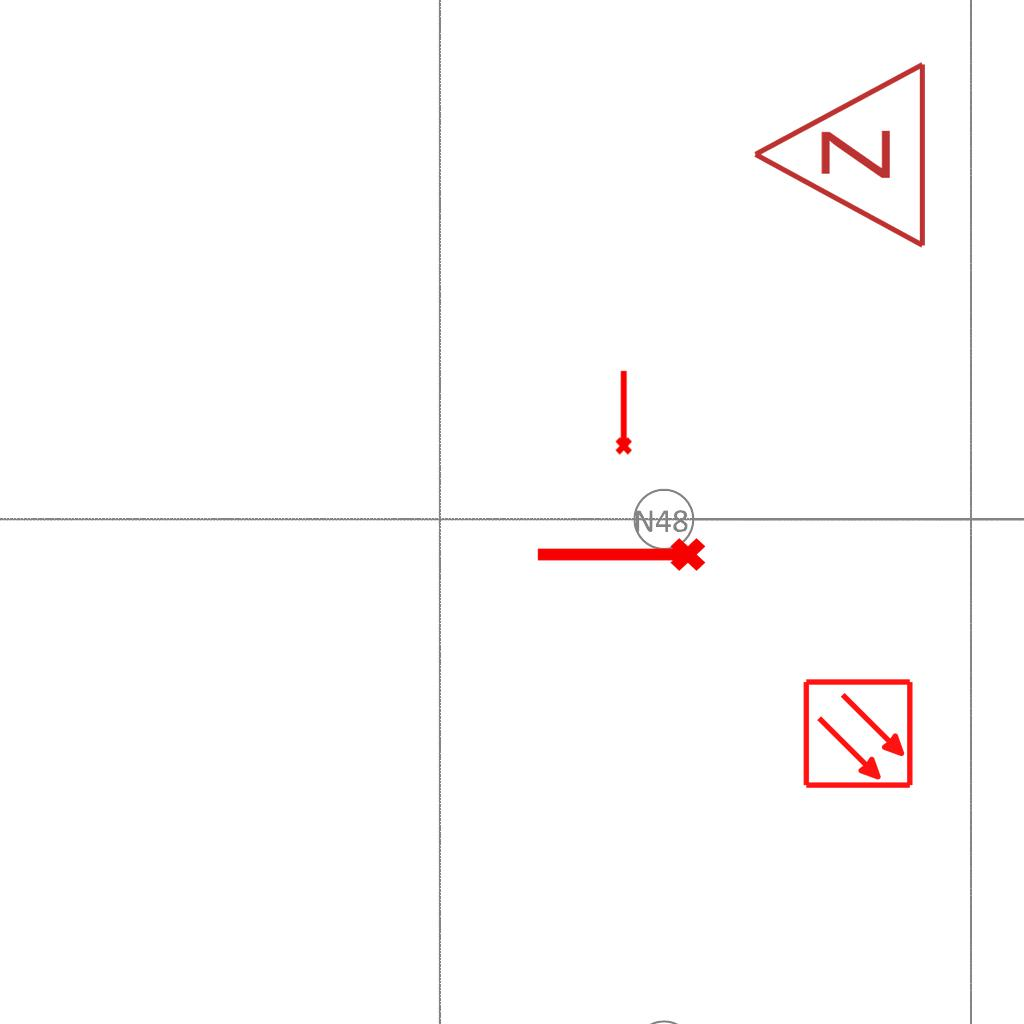ASR_Ansaugoeffnung: (532, 534, 708, 580), (611, 368, 634, 456)
RMO_Rauchmelder_optischer: (802, 677, 915, 790)
Zimmersignalleuchte: (740, 59, 940, 255)
